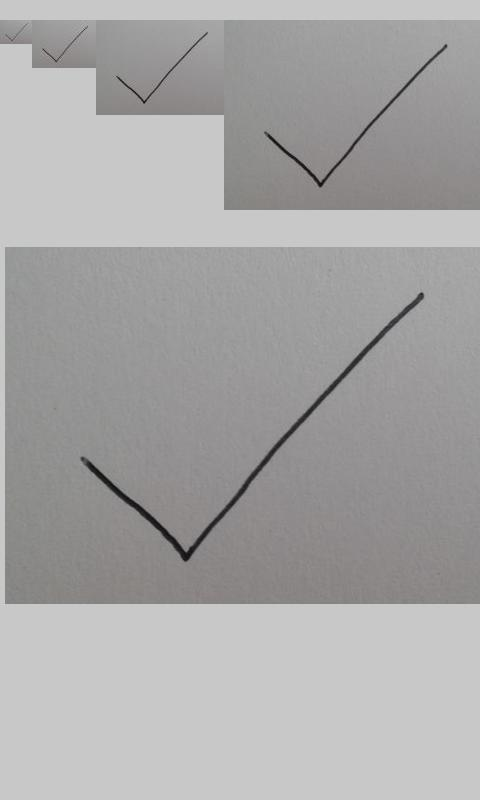check_box: (78, 294, 424, 562), (264, 44, 446, 188), (116, 32, 209, 104), (42, 26, 88, 63), (5, 23, 28, 42)
